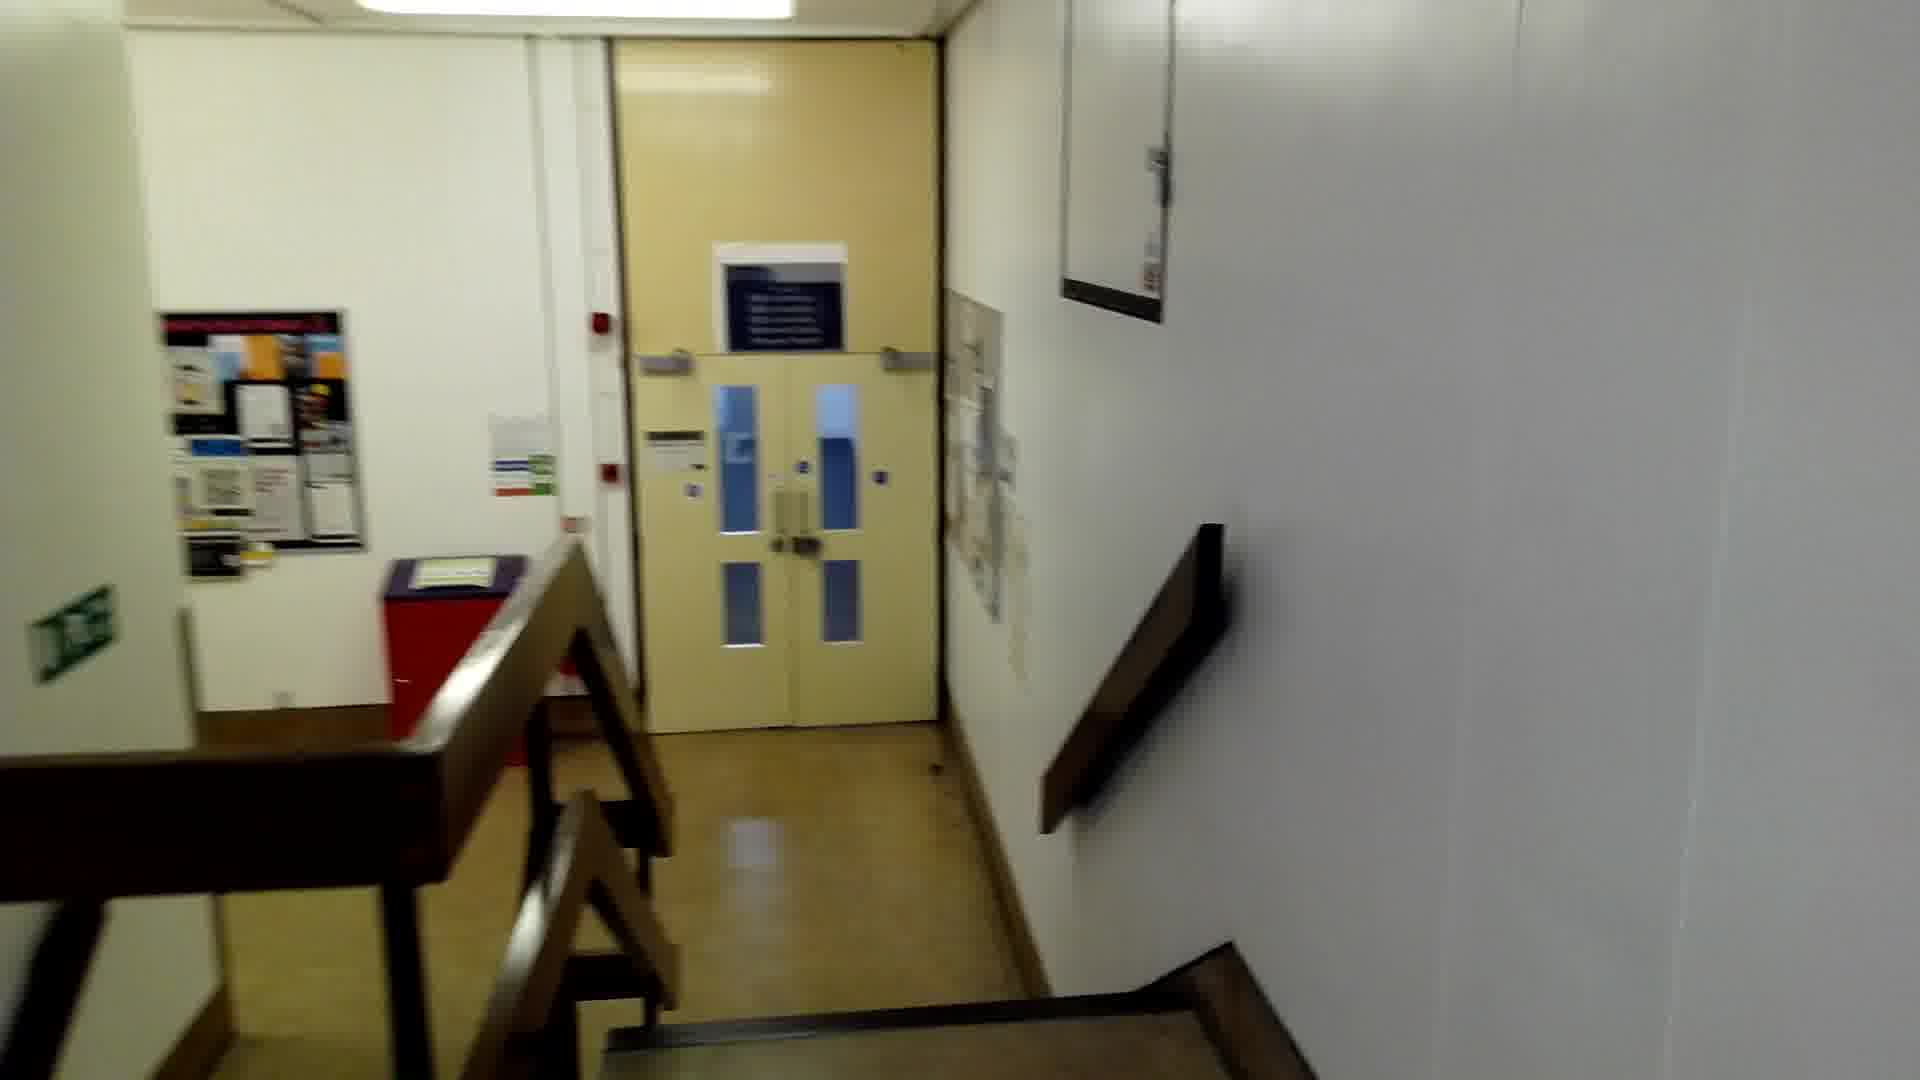Door: (611, 349, 971, 728)
Stairs: (527, 771, 1265, 1058)
